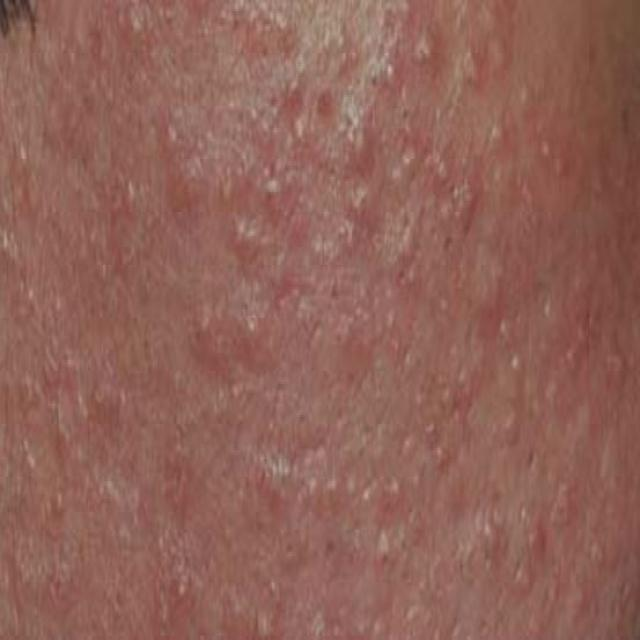fungal: (44, 0, 625, 640)
